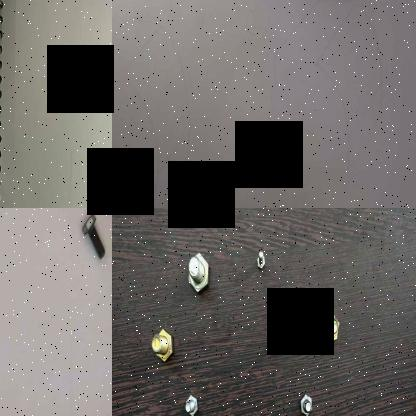Bolts: (75, 208, 112, 264), (184, 250, 214, 304), (320, 304, 344, 350), (152, 322, 174, 370), (295, 389, 319, 416), (248, 248, 268, 278), (182, 388, 198, 416), (264, 331, 277, 353)
